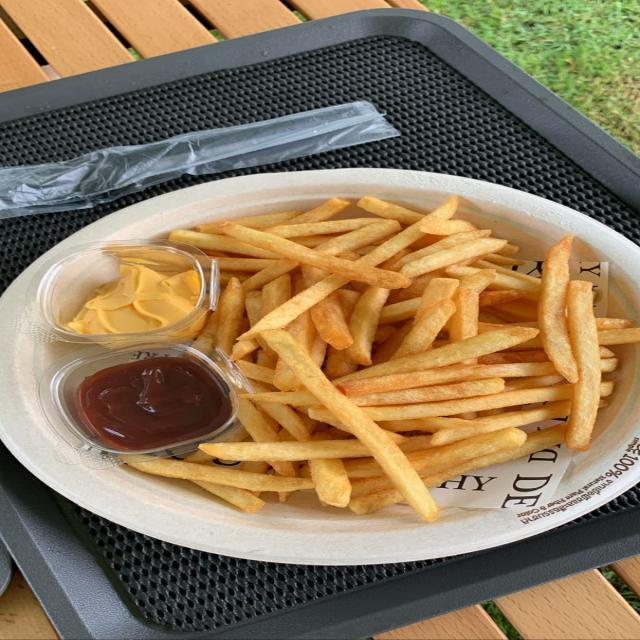potato fries: (130, 196, 639, 521), (263, 331, 438, 521), (221, 222, 410, 288), (538, 235, 578, 382), (567, 281, 601, 450)
